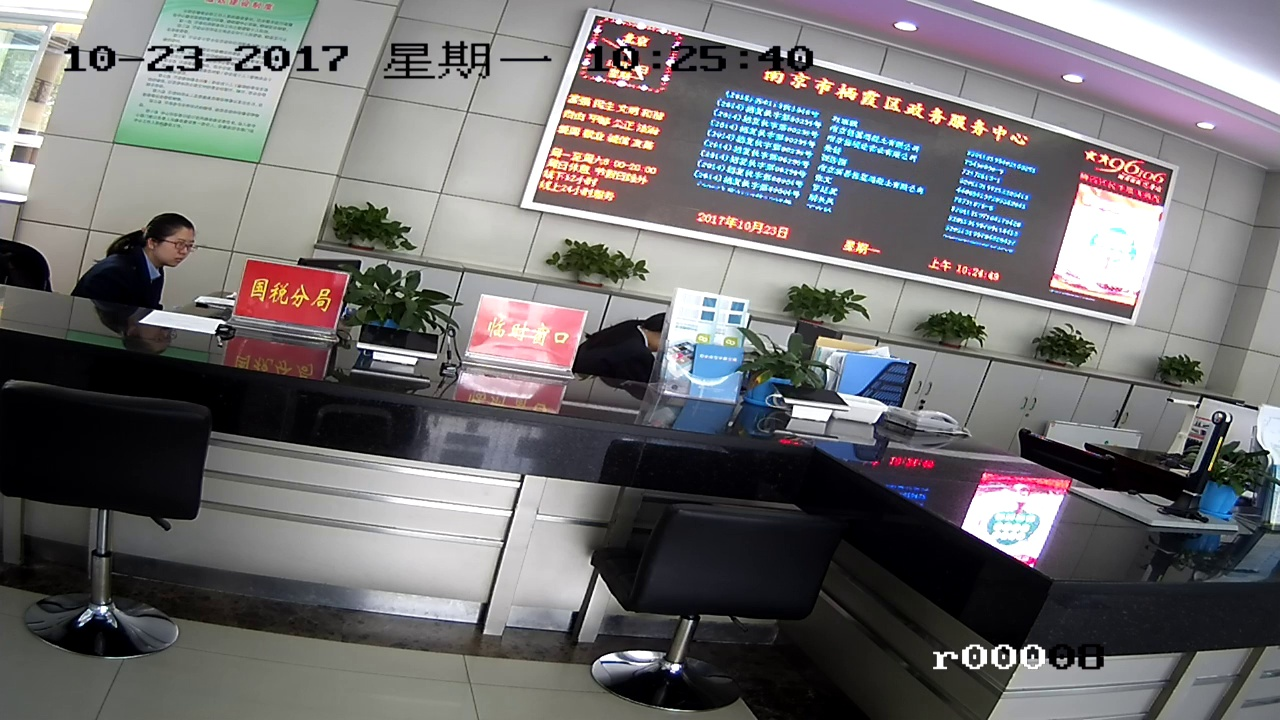billboard: (157, 14, 291, 157)
chair: (16, 382, 215, 669), (614, 507, 855, 707)
monitor: (599, 46, 1008, 267)
person: (103, 214, 206, 307), (602, 283, 668, 360)
pot: (553, 225, 626, 284), (1035, 331, 1106, 386), (925, 305, 995, 360), (341, 197, 401, 255), (784, 278, 845, 329), (1153, 354, 1190, 393)
